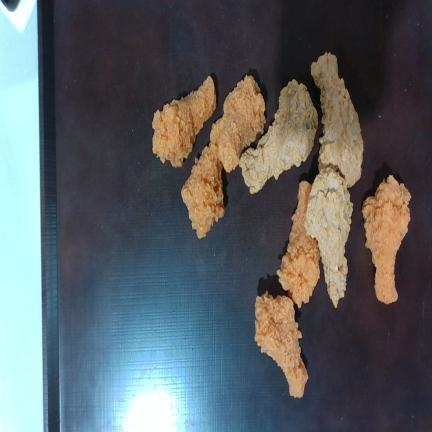chicken: (240, 79, 318, 193), (311, 53, 363, 187), (304, 167, 352, 307), (362, 175, 411, 304), (152, 76, 216, 166), (255, 291, 308, 397), (277, 181, 320, 307), (210, 75, 265, 172), (181, 144, 224, 238)
